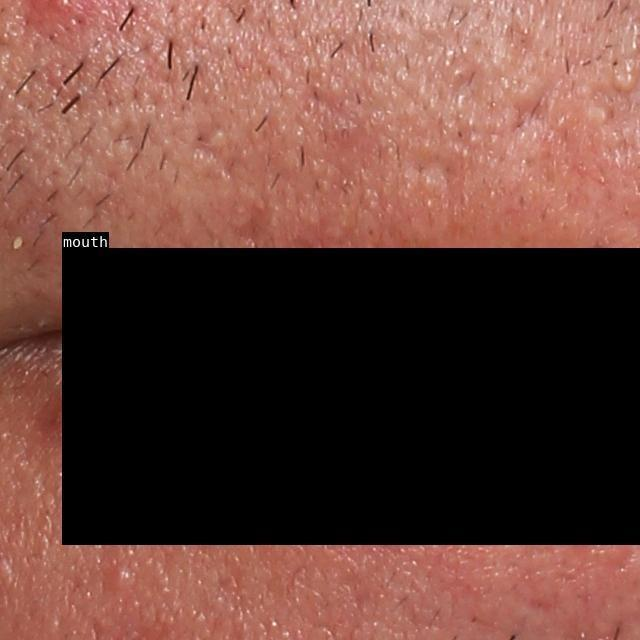atrophic_scar: (225, 200, 277, 257), (512, 93, 549, 133)
hypertrophic_scar: (611, 66, 640, 94), (587, 101, 618, 126)
